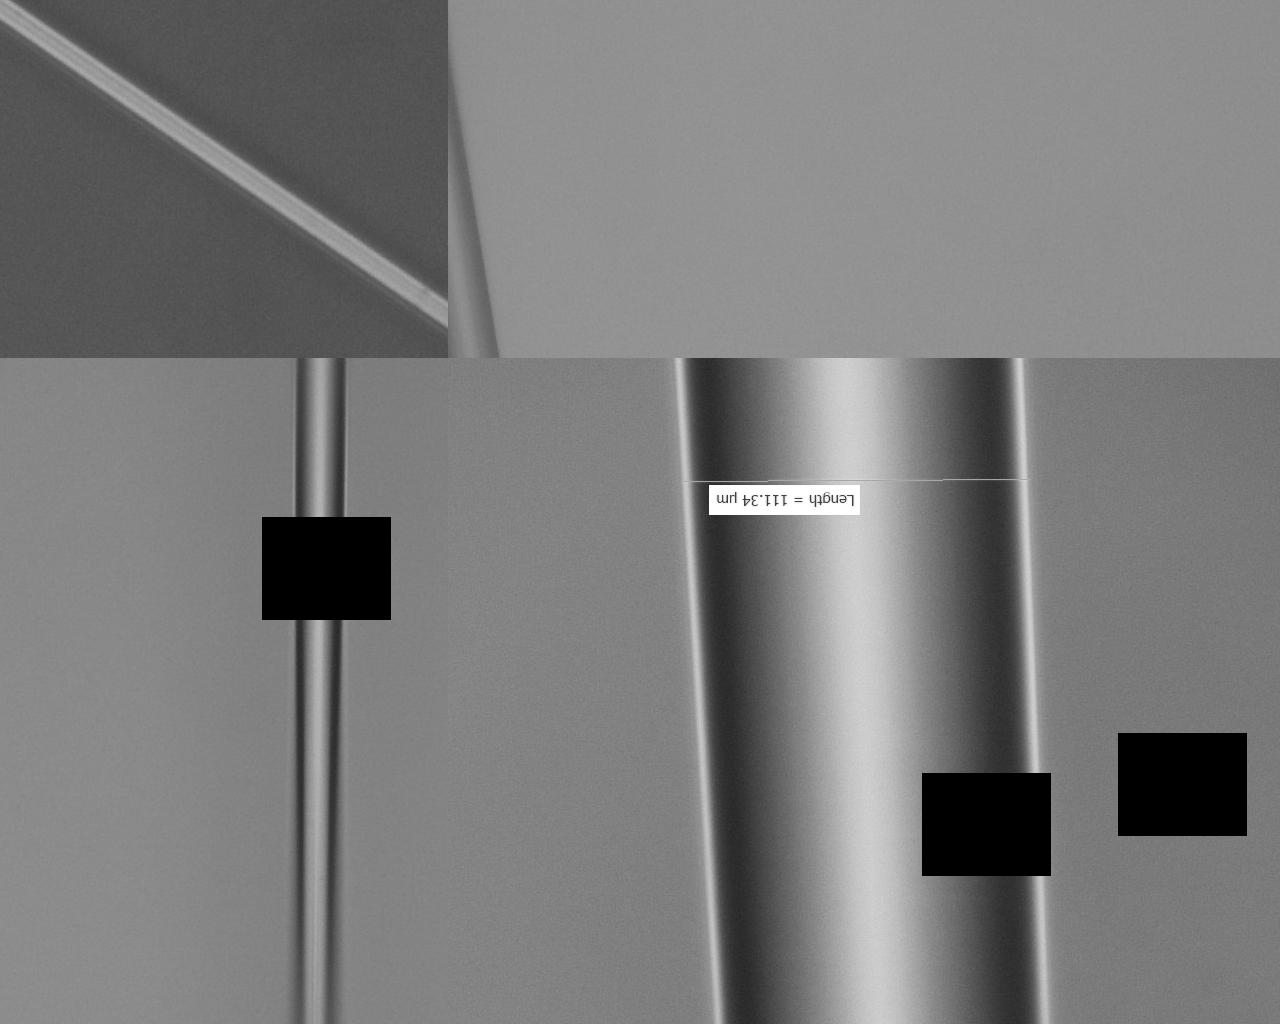fiber: (0, 147, 786, 400), (883, 0, 1280, 266), (967, 941, 1280, 986)
